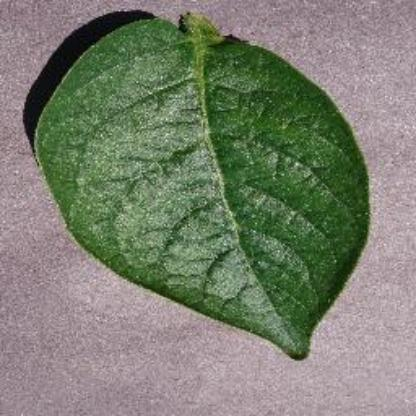Healthy-plant: (26, 5, 380, 379)
